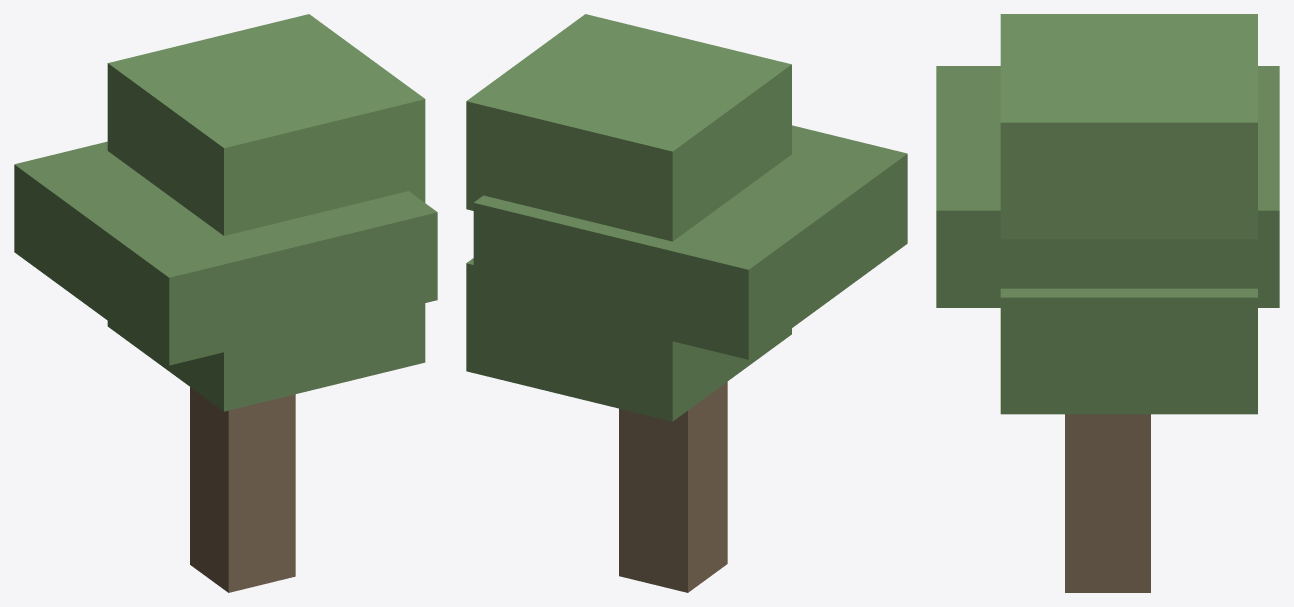
Rendered from haya_08.glb.
3 renders of one model, left to right at view 1: azimuth 30°, elevation 25°; view 2: azimuth 150°, elevation 25°; view 3: azimuth 270°, elevation 25°, orthographic. The views are drawn at different scales.
Parts seen in each view (by area): view 1: haya_08; view 2: haya_08; view 3: haya_08.
Part boxes in pixels (left/top/right/bottom): haya_08: left=14, top=14, right=437, bottom=592; haya_08: left=466, top=14, right=907, bottom=592; haya_08: left=936, top=14, right=1279, bottom=592.
Bounding box in the file's own units: 1.7 × 2.7 × 1.6.
